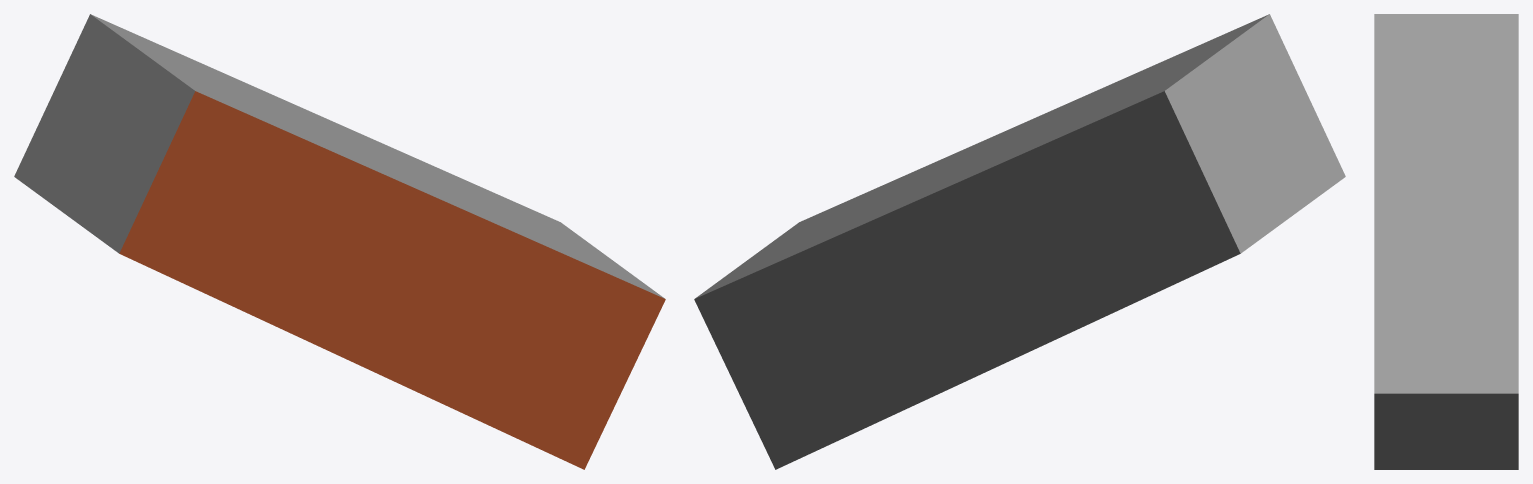
The model's file is construction_4857_assumed_A_Casa_h6m.obj.
3 renders of one model, left to right at view 1: azimuth 30°, elevation 25°; view 2: azimuth 150°, elevation 25°; view 3: azimuth 270°, elevation 25°, orthographic. The views are drawn at different scales.
Visible parts, largest first — view 1: construction_4857_assumed_A_Casa; view 2: construction_4857_assumed_A_Casa; view 3: construction_4857_assumed_A_Casa.
Boxes of the visible parts, x1=… form: construction_4857_assumed_A_Casa: x1=14, y1=14, x2=665, y2=469; construction_4857_assumed_A_Casa: x1=694, y1=14, x2=1345, y2=469; construction_4857_assumed_A_Casa: x1=1374, y1=14, x2=1518, y2=469.
Size of the model in its own units: 18 by 14.91 by 6.
